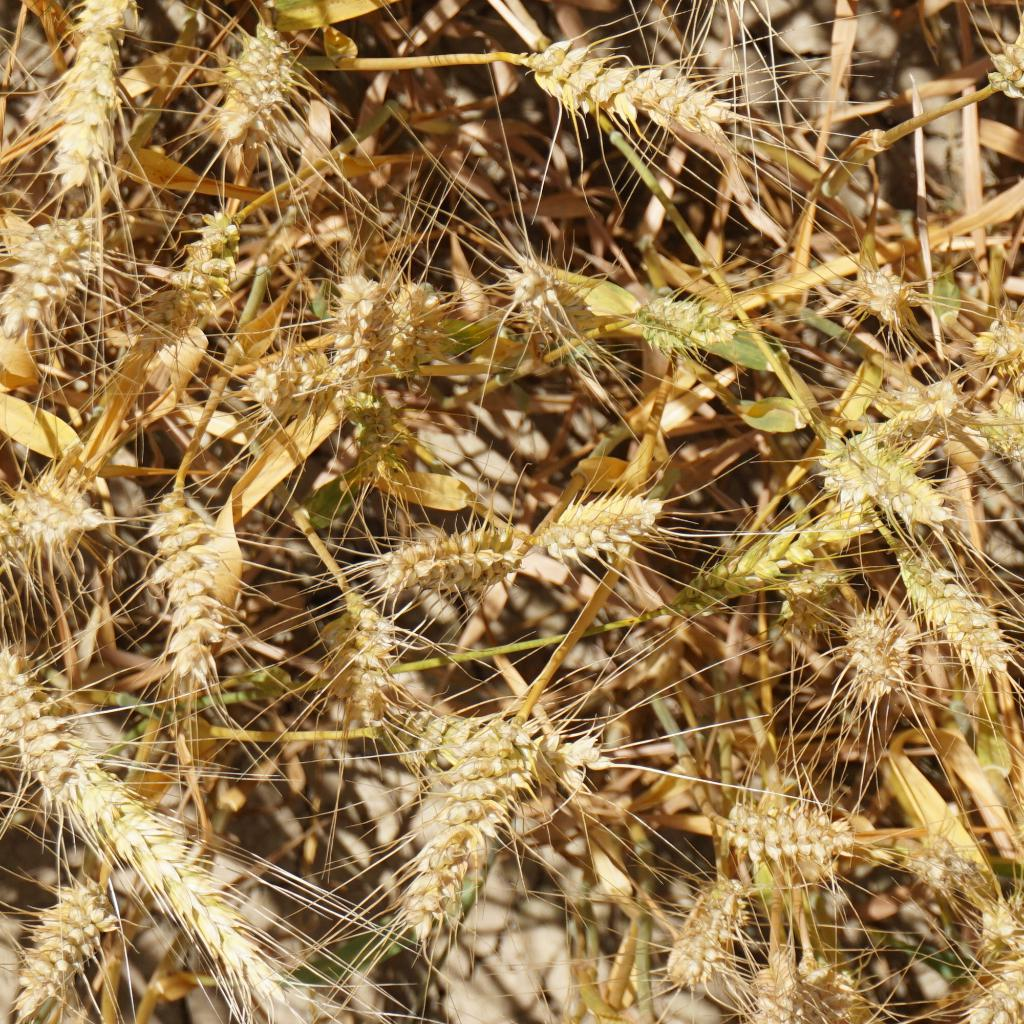0-0: (67, 772, 290, 1022), (519, 24, 729, 133), (45, 0, 147, 208), (147, 484, 231, 691), (797, 426, 955, 536), (425, 732, 520, 911), (883, 550, 1009, 681), (16, 871, 109, 1024), (699, 784, 856, 867), (395, 695, 588, 760), (0, 201, 96, 316), (364, 519, 515, 590), (0, 641, 79, 775), (320, 590, 398, 722), (197, 22, 290, 132), (890, 828, 1004, 915), (812, 592, 905, 695), (531, 490, 667, 554), (176, 210, 247, 323), (497, 246, 584, 338), (665, 531, 793, 591), (950, 923, 1024, 1024), (379, 277, 460, 362), (323, 271, 382, 385), (11, 464, 92, 547), (675, 879, 735, 982), (742, 940, 816, 1022), (853, 256, 935, 329), (236, 336, 314, 411), (623, 290, 723, 345), (795, 943, 862, 1024), (764, 561, 832, 634), (347, 399, 406, 482), (903, 365, 975, 422), (984, 379, 1024, 466), (981, 0, 1024, 71), (975, 305, 1024, 365), (0, 507, 15, 577)
